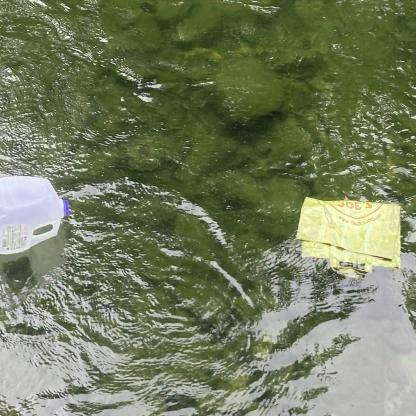Plastic: (0, 170, 74, 264)
Trash: (294, 192, 406, 284)
